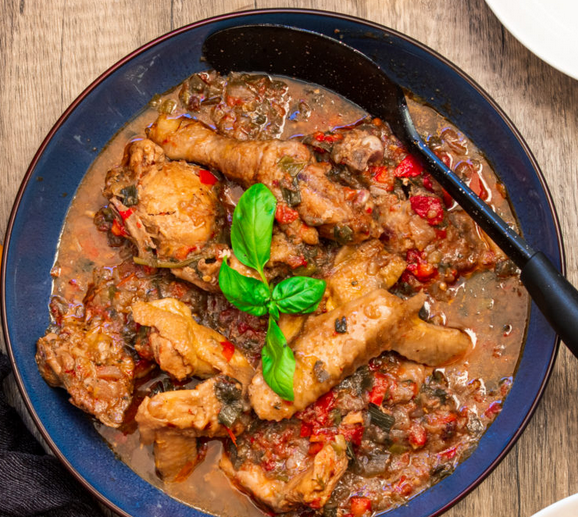basilic: (224, 191, 291, 333)
condiment vert: (368, 411, 394, 474)
poulet: (190, 134, 290, 171)
sauce: (65, 212, 103, 272)
tomate: (423, 197, 437, 217)
